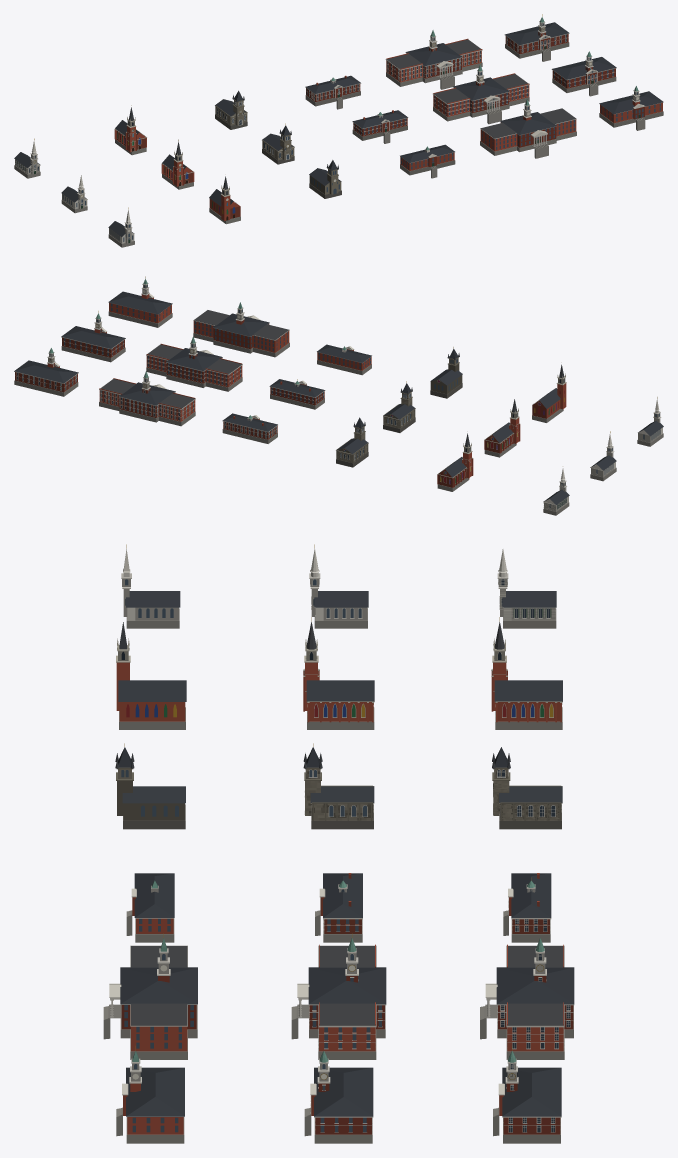
Rendered from civic_hero.glb.
3 views of the same model, one above another, from view 1: azimuth 30°, elevation 25°; view 2: azimuth 150°, elevation 25°; view 3: azimuth 270°, elevation 25° (orthographic). The views are drawn at different scales.
Visible parts, largest first — view 1: school_high_1, school_high_0, school_high_2, civic_hall_1, civic_hall_0, civic_hall_2, school_elem_0, school_elem_1, school_elem_2, church_gothic_1, church_gothic_0, church_rom_1 (+6 smaller); view 2: school_high_0, school_high_1, school_high_2, civic_hall_2, civic_hall_1, civic_hall_0, school_elem_1, school_elem_0, school_elem_2, church_gothic_1, church_gothic_0, church_gothic_2 (+6 smaller); view 3: school_high_1, school_high_0, school_high_2, civic_hall_1, civic_hall_0, civic_hall_2, church_gothic_0, church_gothic_1, church_gothic_2, church_rom_0, church_rom_1, church_rom_2 (+6 smaller).
Part boxes in pixels (bbox=[...]): school_high_1: bbox=[433, 62, 529, 124]; school_high_0: bbox=[385, 30, 482, 89]; school_high_2: bbox=[480, 99, 576, 158]; civic_hall_1: bbox=[551, 51, 616, 96]; civic_hall_0: bbox=[504, 14, 569, 61]; civic_hall_2: bbox=[599, 86, 663, 130]; school_elem_0: bbox=[305, 75, 361, 109]; school_elem_1: bbox=[352, 110, 408, 143]; school_elem_2: bbox=[400, 144, 455, 178]; church_gothic_1: bbox=[161, 139, 194, 189]; church_gothic_0: bbox=[114, 105, 146, 155]; church_rom_1: bbox=[262, 123, 294, 164]; school_high_0: bbox=[99, 371, 195, 426]; school_high_1: bbox=[146, 336, 242, 391]; school_high_2: bbox=[193, 302, 289, 357]; civic_hall_2: bbox=[108, 276, 172, 327]; civic_hall_1: bbox=[61, 311, 125, 362]; civic_hall_0: bbox=[14, 348, 78, 396]; school_elem_1: bbox=[269, 379, 325, 409]; school_elem_0: bbox=[222, 413, 277, 443]; school_elem_2: bbox=[317, 344, 371, 375]; church_gothic_1: bbox=[484, 399, 520, 457]; church_gothic_0: bbox=[437, 433, 473, 491]; church_gothic_2: bbox=[532, 364, 566, 422]; school_high_1: bbox=[291, 933, 386, 1059]; school_high_0: bbox=[480, 938, 574, 1059]; school_high_2: bbox=[103, 933, 197, 1059]; civic_hall_1: bbox=[304, 1051, 373, 1143]; civic_hall_0: bbox=[493, 1046, 561, 1143]; civic_hall_2: bbox=[116, 1046, 184, 1143]; church_gothic_0: bbox=[491, 617, 562, 729]; church_gothic_1: bbox=[303, 617, 374, 729]; church_gothic_2: bbox=[116, 622, 186, 729]; church_rom_0: bbox=[492, 747, 562, 829]; church_rom_1: bbox=[303, 743, 374, 829]; church_rom_2: bbox=[115, 743, 185, 829].
Size of the model in its own units: 531 by 52.5 by 200.
